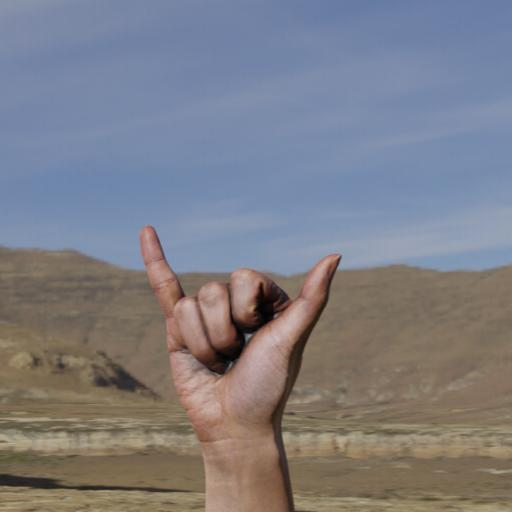Y: (130, 215, 360, 464)
